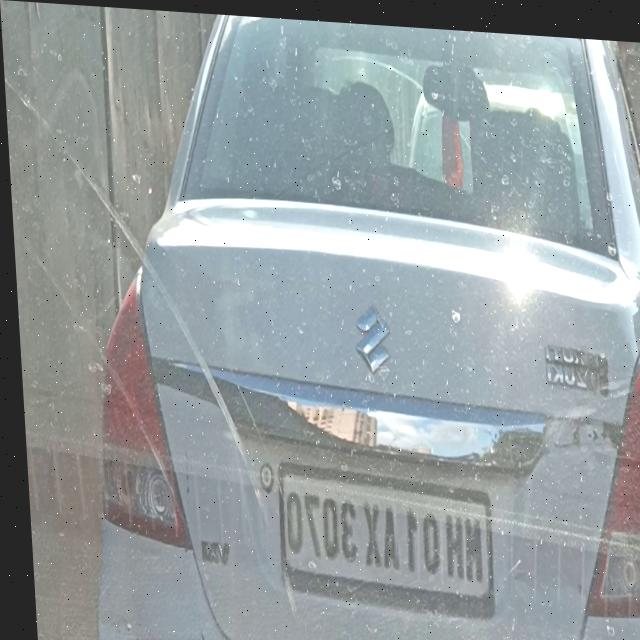plate: (268, 455, 488, 609)
